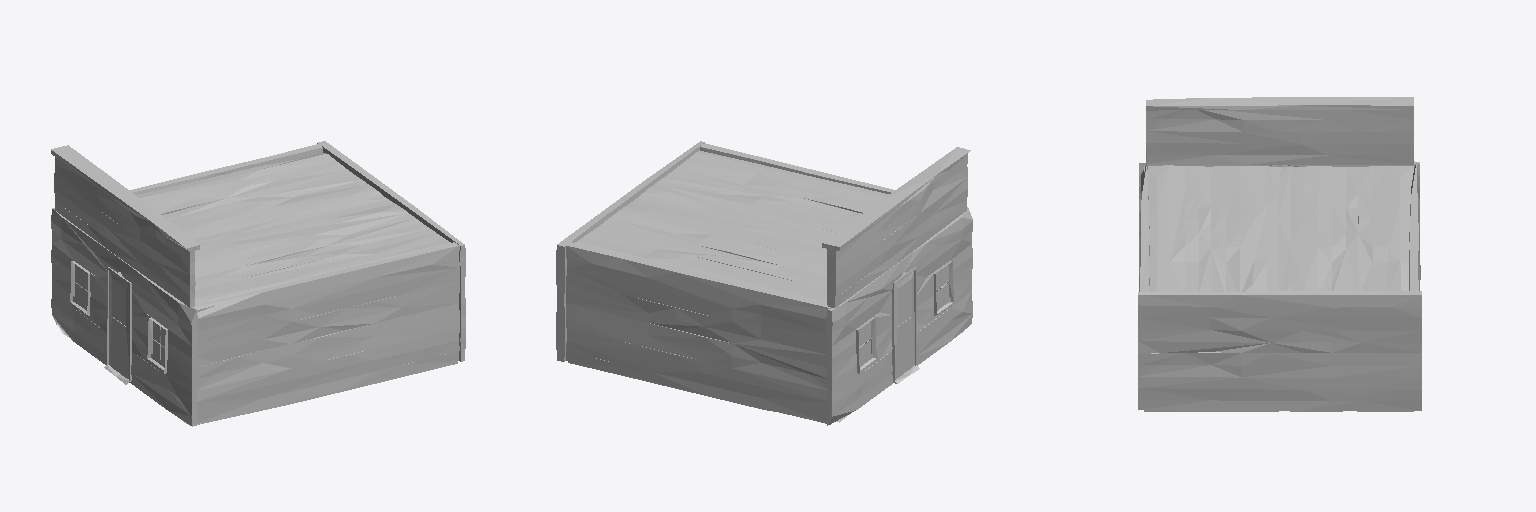
Rendered from Barber_LOD2.obj.
The picture shows the model from 3 angles: view 1: azimuth 30°, elevation 25°; view 2: azimuth 150°, elevation 25°; view 3: azimuth 270°, elevation 25°; orthographic projection.
Parts seen in each view (by area): view 1: WildWest_Barber_Building, WildWest_Barber_Ceiling, WildWest_Barber_Door, WildWest_Barber_Window, WildWest_Barber_DoorWindow; view 2: WildWest_Barber_Building, WildWest_Barber_Ceiling, WildWest_Barber_Door, WildWest_Barber_Window, WildWest_Barber_DoorWindow; view 3: WildWest_Barber_Building, WildWest_Barber_Ceiling.
Boxes of the visible parts, x1=… form: WildWest_Barber_Building: x1=51, y1=141, x2=465, y2=426; WildWest_Barber_Ceiling: x1=57, y1=153, x2=457, y2=424; WildWest_Barber_Door: x1=109, y1=271, x2=128, y2=378; WildWest_Barber_Window: x1=75, y1=264, x2=165, y2=362; WildWest_Barber_DoorWindow: x1=112, y1=279, x2=125, y2=325; WildWest_Barber_Building: x1=556, y1=141, x2=972, y2=425; WildWest_Barber_Ceiling: x1=568, y1=150, x2=964, y2=422; WildWest_Barber_Door: x1=895, y1=272, x2=914, y2=379; WildWest_Barber_Window: x1=858, y1=264, x2=948, y2=362; WildWest_Barber_DoorWindow: x1=898, y1=279, x2=911, y2=325; WildWest_Barber_Building: x1=1138, y1=97, x2=1421, y2=410; WildWest_Barber_Ceiling: x1=1144, y1=165, x2=1413, y2=411.
Size of the model in its own units: 7.27 by 4.5 by 6.35.